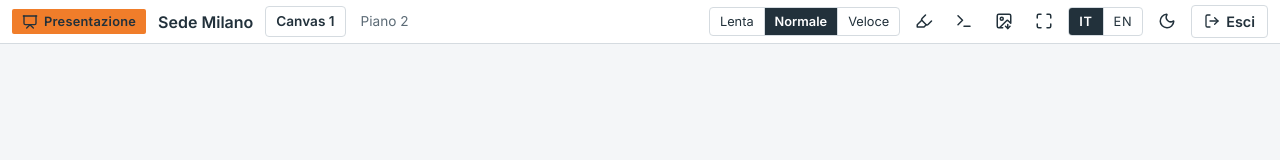
it: PresentationBar › shows the canvases only when the project has more than one, and switches between them
Click the button "Piano 2" at (384, 22), box [350,6,419,37]
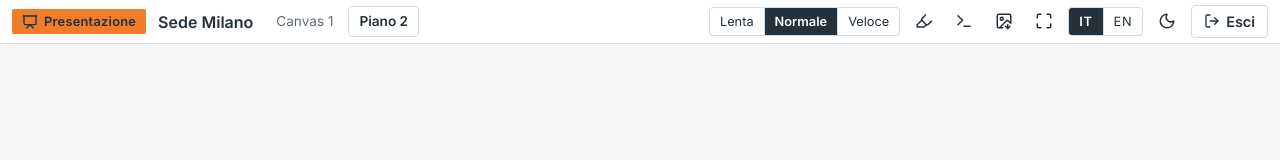
Check: the button "Piano 2" is pressed, box [348,6,419,37]
